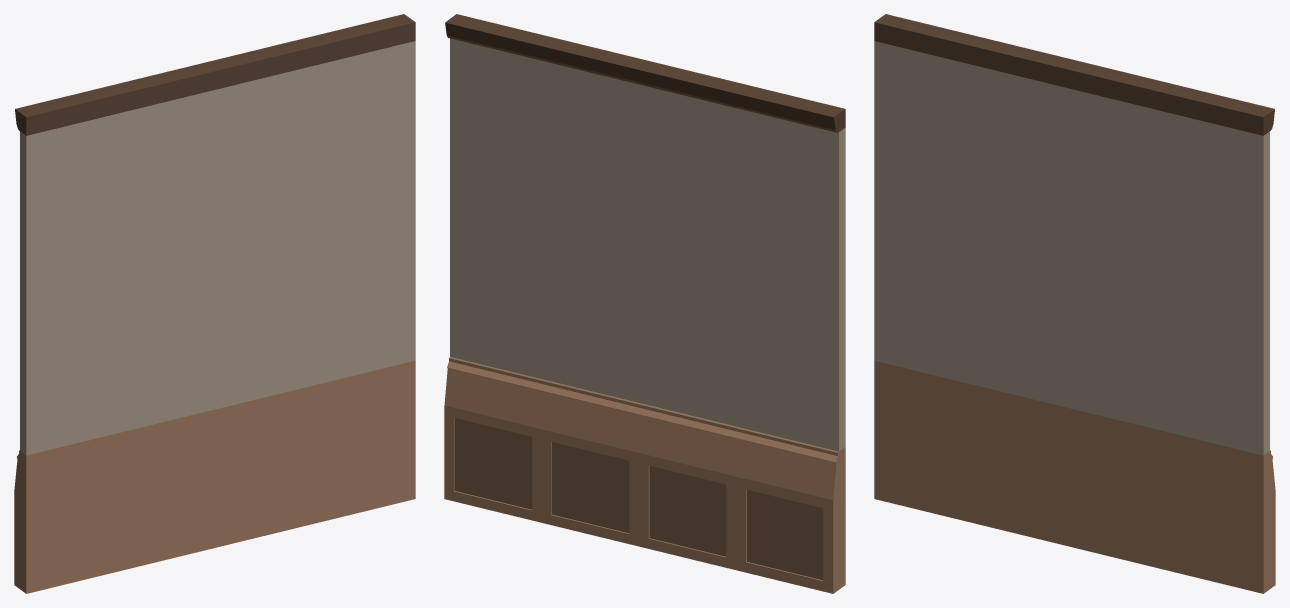
File: Wall_Textured.fbx
3 views of the same model, side by side, from view 1: azimuth 30°, elevation 25°; view 2: azimuth 150°, elevation 25°; view 3: azimuth 330°, elevation 25° (orthographic).
Visible parts, largest first — view 1: Wall; view 2: Wall; view 3: Wall.
Part boxes in pixels (x1,y1,x2,y2): Wall: [14, 14, 415, 593]; Wall: [444, 14, 845, 593]; Wall: [874, 14, 1275, 593].
Size of the model in its own units: 393 by 460 by 21.26.
